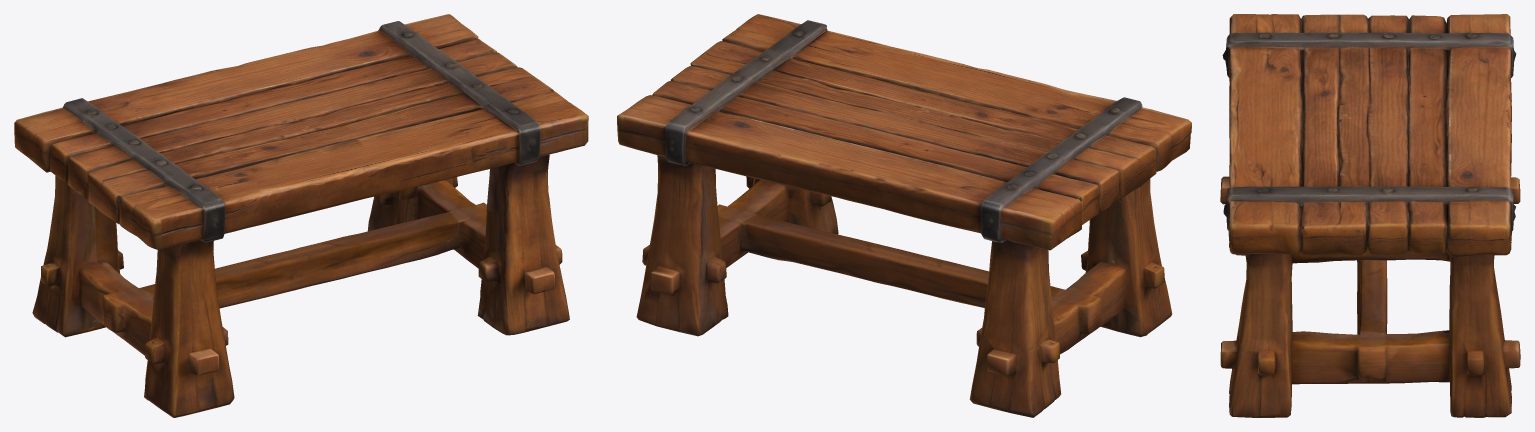
The model's file is table.glb.
The picture shows the model from 3 angles, left to right: view 1: azimuth 30°, elevation 25°; view 2: azimuth 150°, elevation 25°; view 3: azimuth 270°, elevation 25°; orthographic projection.
Visible parts, largest first — view 1: model; view 2: model; view 3: model.
Boxes of the visible parts, x1=… form: model: x1=14, y1=14, x2=588, y2=417; model: x1=617, y1=14, x2=1191, y2=417; model: x1=1220, y1=14, x2=1520, y2=417.
Bounding box in the file's own units: 2 × 0.9161 × 1.18.
Materials: 1 (1 with a texture image).
